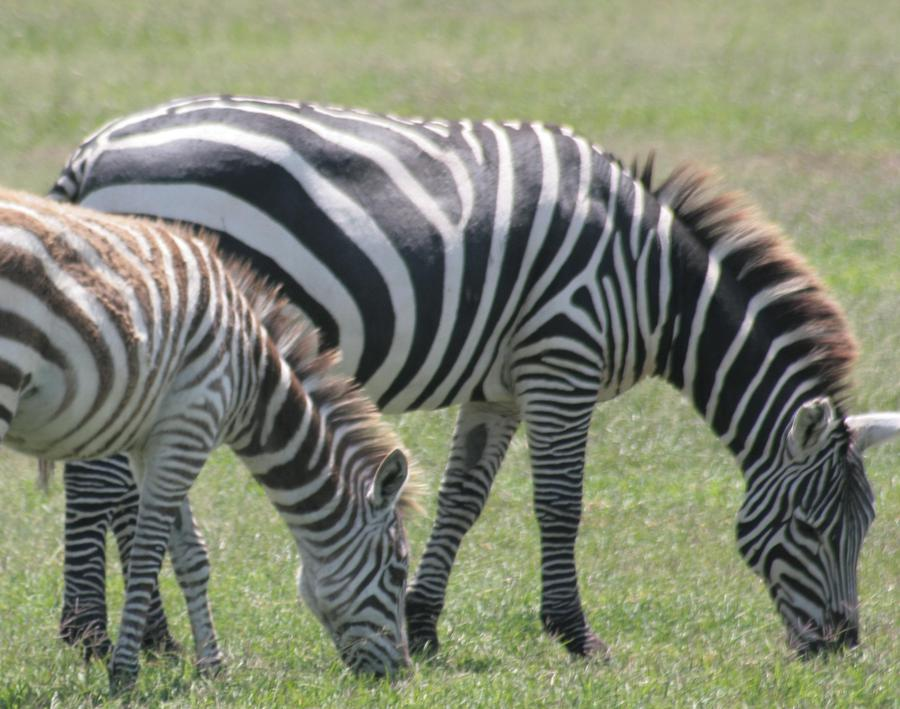zebra_plains: (316, 110, 647, 434)
